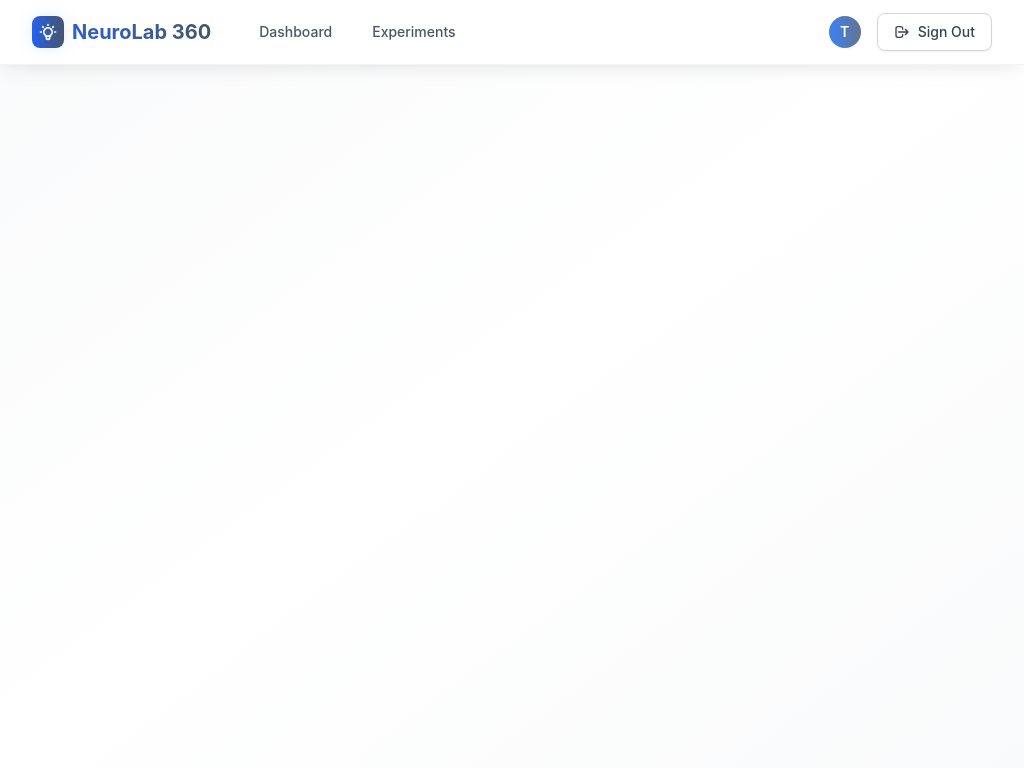
Scenario: Navbar › shows logout confirmation dialog when sign out is clicked
The width and height of the screenshot is (1024, 768).
What coordinates should you click on to do the following:
click the button with test id "signout-button"
I would click on:
 (934, 32)
Its box is [877,13,992,51].
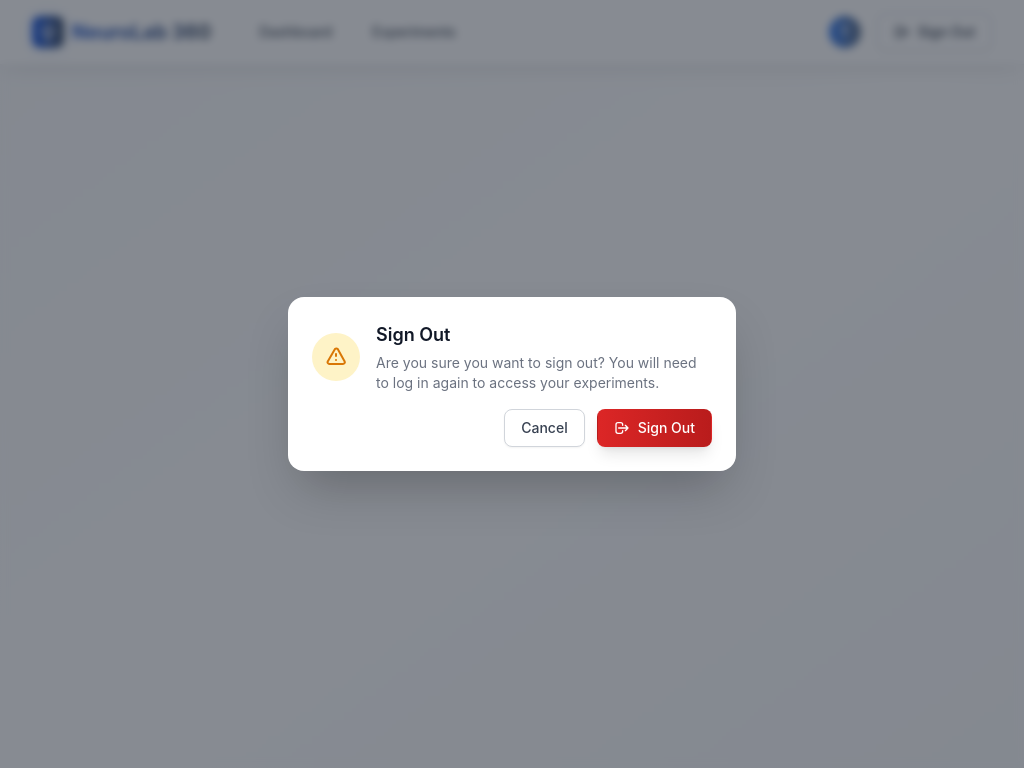
Check: the element with test id "logout-modal" is shown
Check: the heading "Sign Out" is shown, box [376,324,450,345]
Check: the text "Are you sure you want to sign out? You will need to log in again to access your experiments." is shown, box [376,354,697,391]
